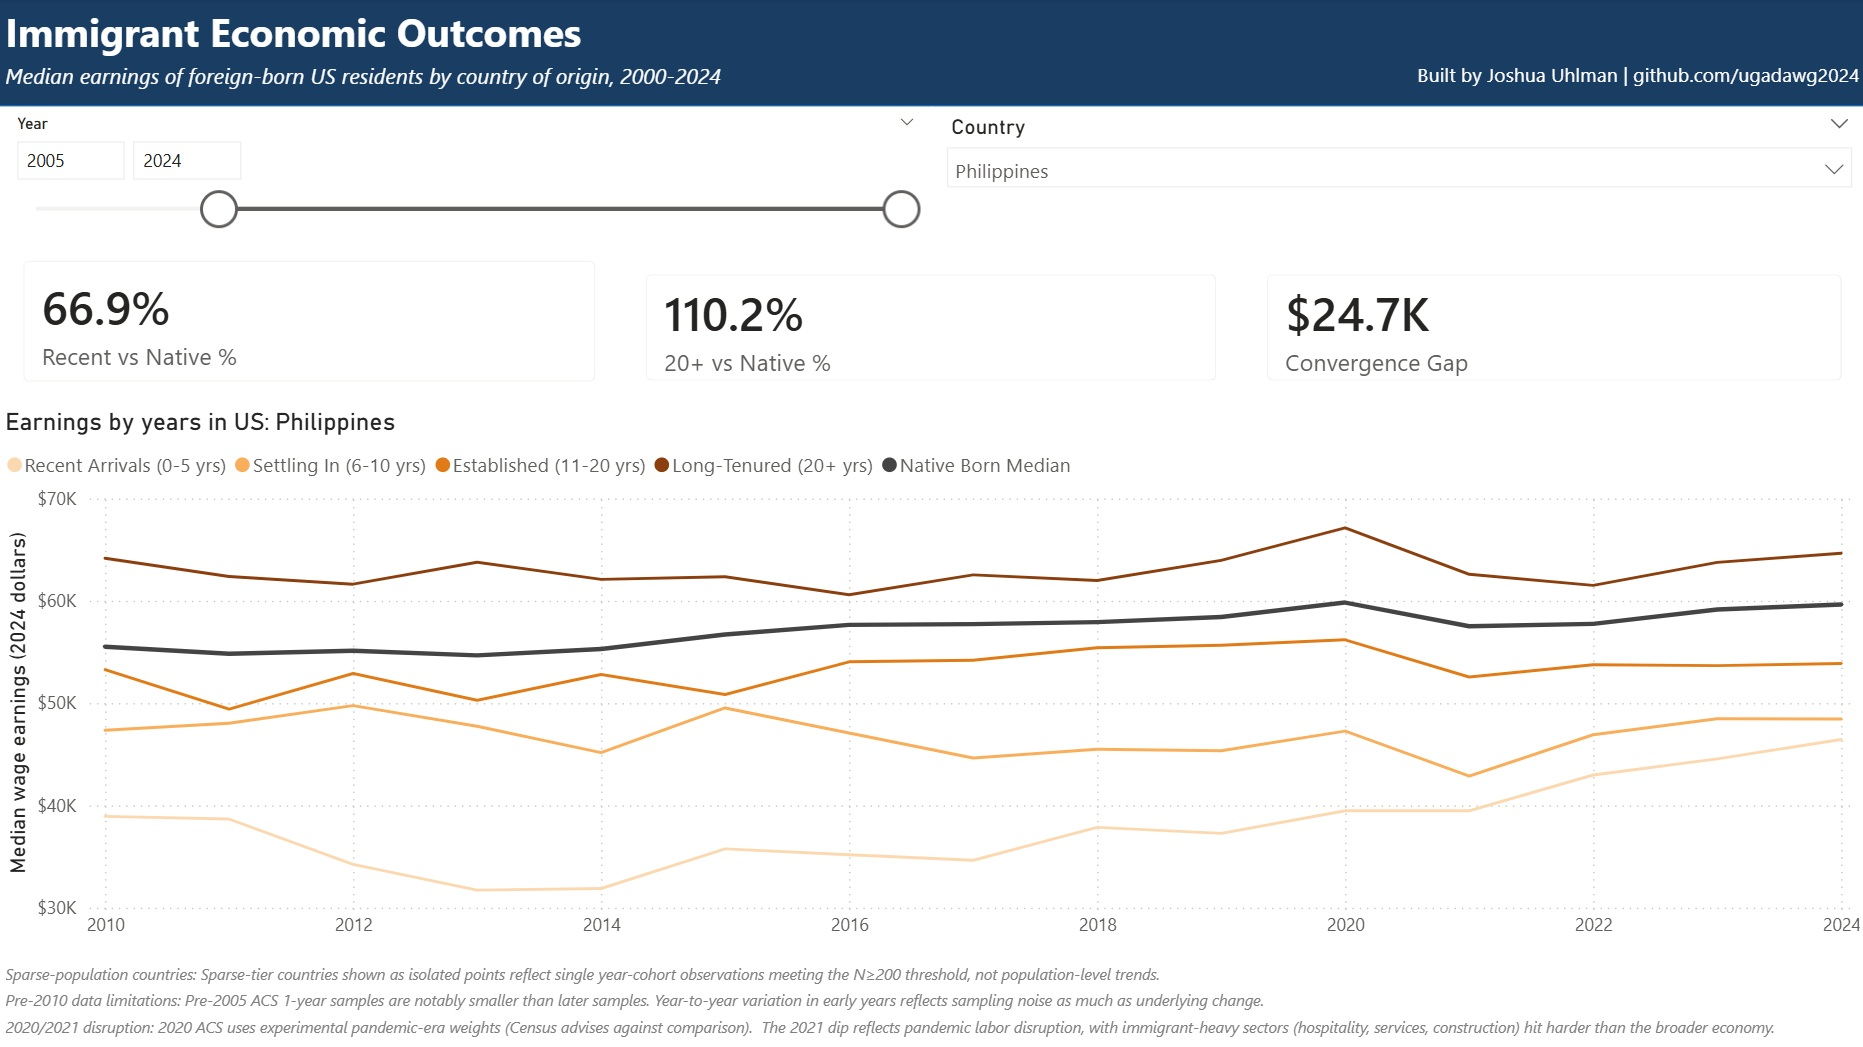

The dashboard page shown, as its layout file describes it:
{"tool":"powerbi","page":{"name":"Trajectory","canvas":[1280,720],"ordinal":1},"visuals":[{"type":"shape","box":[0,0,1280.4,75],"z":0},{"type":"textbox","box":[0,0,505.6,47.3],"z":1000},{"type":"textbox","box":[0,38,571.4,37],"z":2000},{"type":"textbox","box":[914.6,38,365.8,37],"z":3000},{"type":"slicer","fields":{"Values":["Date.Year"]},"box":[0,75,640.2,97.6],"z":4000},{"type":"slicer","fields":{"Values":["Countries.Country"]},"box":[640.2,75,640.2,97.6],"z":5000},{"type":"lineChart","fields":{"Category":["Date.Year"],"Y":["Medians.Recent Arrivals (0-5 yrs)","Medians.Settling In (6-10 yrs)","Medians.Established (11-20 yrs)","Medians.Long-Tenured (20+ yrs)","Medians.Native Born Median"]},"box":[0,280.5,1280.4,356.6],"z":6000},{"type":"cardVisual","fields":{"Data":["Medians.Recent vs Native %"]},"box":[0,163.4,426.5,117.1],"z":7000},{"type":"cardVisual","fields":{"Data":["Medians.20+ vs Native"]},"box":[426.5,172.6,425.4,107.9],"z":8000},{"type":"cardVisual","fields":{"Data":["Medians.Convergence Gap"]},"box":[851.9,172.6,428.5,107.9],"z":9000},{"type":"textbox","box":[0,637.1,1280.4,83.2],"z":10000}]}

Visuals, with their boxes in screenshot pixels (x1, y1, x2, y2), scaled from the page's 1280x720 canvas onto the 1863x1047 screenshot:
shape: select_region(0, 0, 1862, 109)
textbox: select_region(0, 0, 736, 69)
textbox: select_region(0, 55, 832, 109)
textbox: select_region(1331, 55, 1862, 109)
slicer - Date.Year: select_region(0, 109, 932, 251)
slicer - Countries.Country: select_region(932, 109, 1862, 251)
lineChart - Date.Year x Medians.Recent Arrivals (0-5 yrs): select_region(0, 408, 1862, 926)
cardVisual - Medians.Recent vs Native %: select_region(0, 238, 621, 408)
cardVisual - Medians.20+ vs Native: select_region(621, 251, 1240, 408)
cardVisual - Medians.Convergence Gap: select_region(1240, 251, 1862, 408)
textbox: select_region(0, 926, 1862, 1046)
